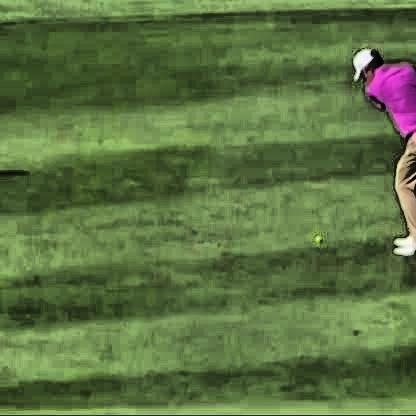golfball: (310, 231, 317, 241)
